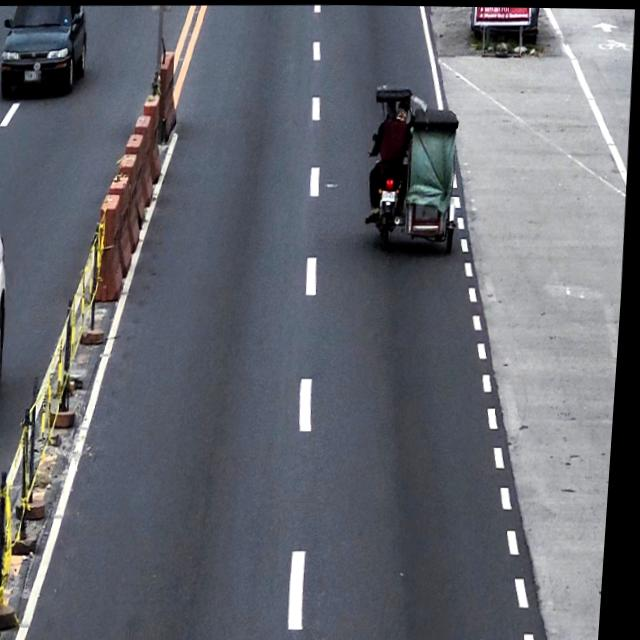License-Plate: (384, 188, 397, 201)
Tricycle: (367, 81, 466, 257)
